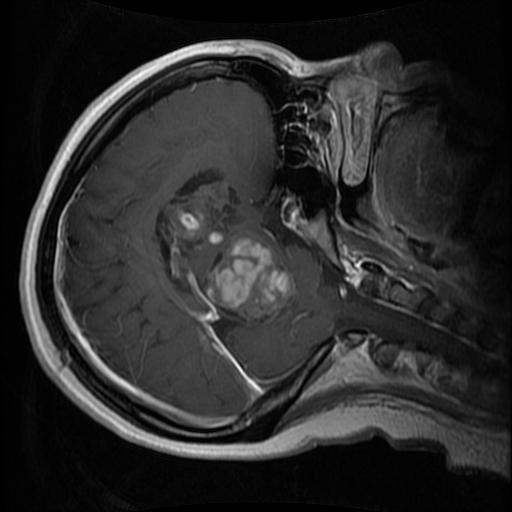glioma: (155, 185, 295, 342)
